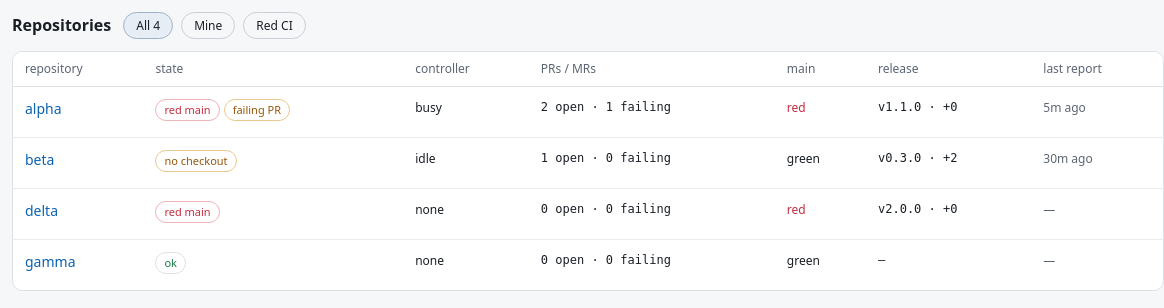
Test: RepositoryTable › says so when no repository matches the filter
This screenshot has width=1164, height=308.
Click the button "Mine" at (208, 26), box left=181, top=12, right=235, bottom=39
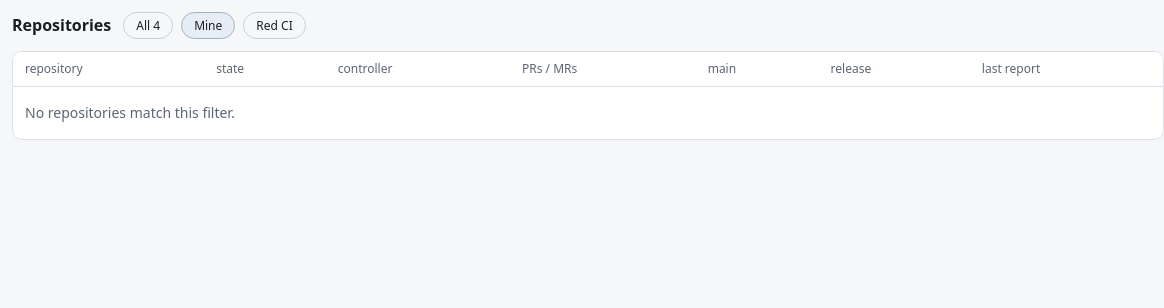
Expected: the text "No repositories match this filter." is shown, left=13, top=87, right=1163, bottom=139
